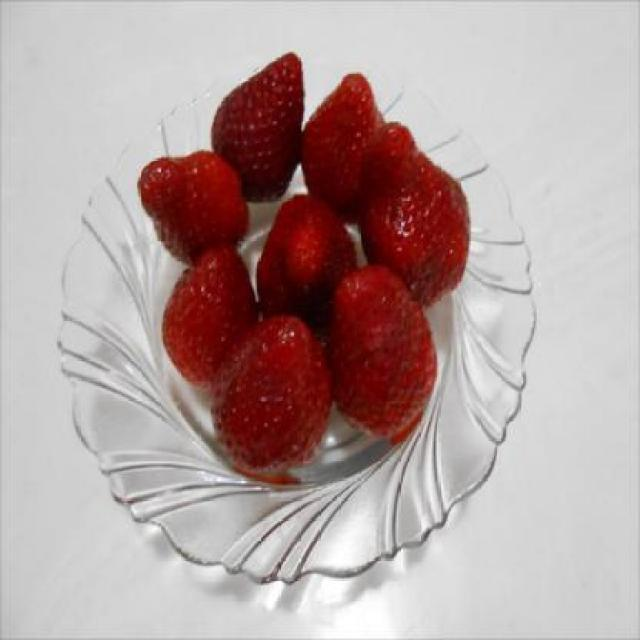Strawberry: (354, 119, 472, 310), (324, 263, 440, 448), (208, 306, 330, 471), (210, 44, 307, 204), (252, 188, 357, 334), (293, 66, 387, 222), (158, 242, 258, 384), (140, 144, 252, 266)
